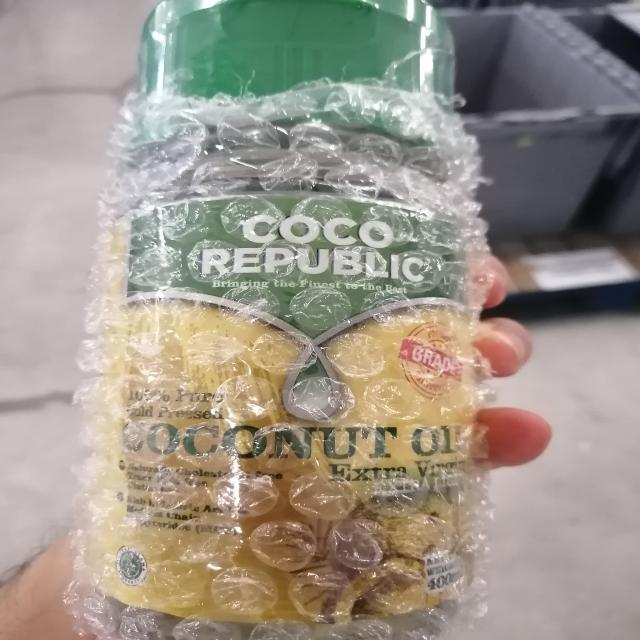object_name: (133, 17, 470, 640)
